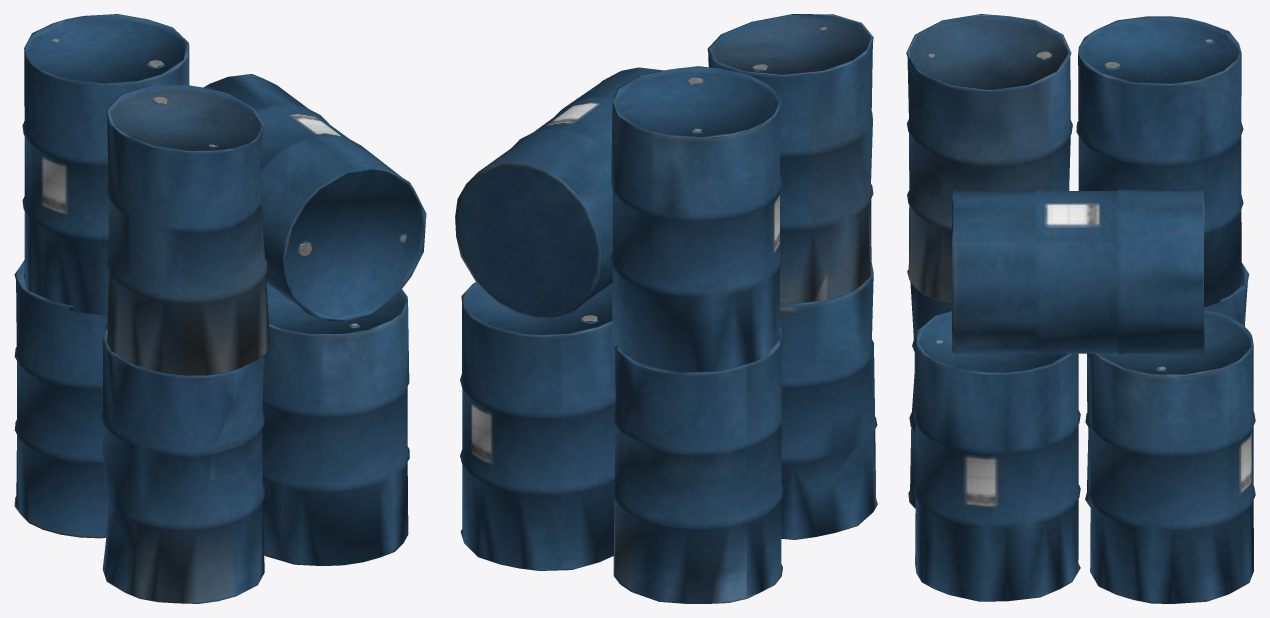
The model's file is barrels.glb.
The picture shows the model from 3 angles, left to right: view 1: azimuth 30°, elevation 25°; view 2: azimuth 150°, elevation 25°; view 3: azimuth 270°, elevation 25°; orthographic projection. The views are drawn at different scales.
Visible parts, largest first — view 1: Metal barrel_Pile_2; view 2: Metal barrel_Pile_2; view 3: Metal barrel_Pile_2.
Boxes of the visible parts, x1=… form: Metal barrel_Pile_2: x1=14, y1=14, x2=426, y2=603; Metal barrel_Pile_2: x1=455, y1=14, x2=877, y2=603; Metal barrel_Pile_2: x1=906, y1=14, x2=1255, y2=603.
Size of the model in its own units: 1.19 by 1.75 by 1.23.
1 material, 1 textured.
